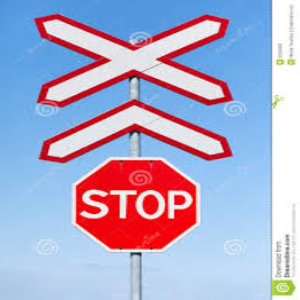STOP_SIGN: (71, 156, 201, 254)
